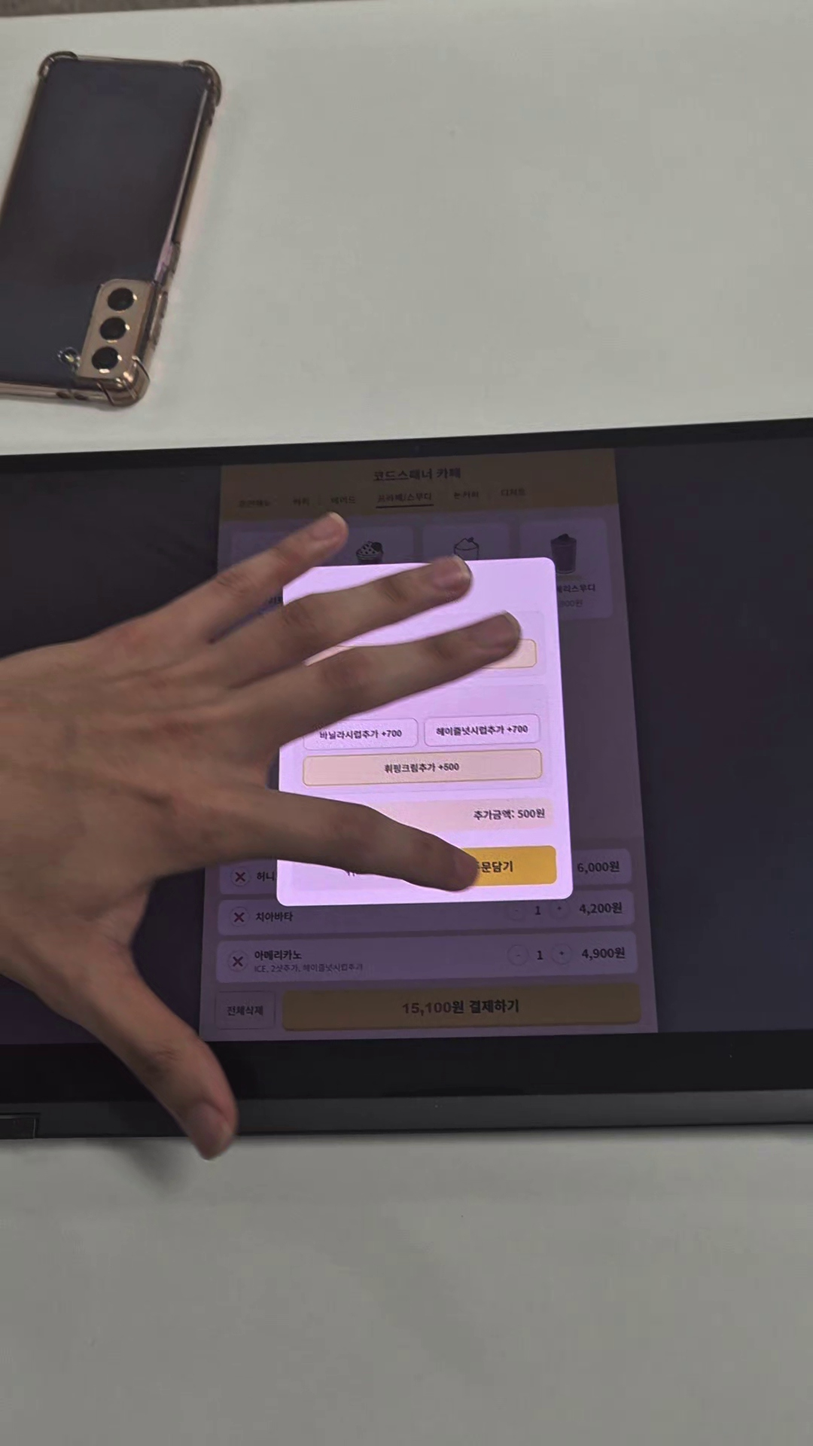action_button: (426, 845, 556, 887)
option_button: (304, 749, 543, 785), (424, 713, 540, 746), (303, 718, 419, 750)
popup_modal: (276, 556, 574, 909)
